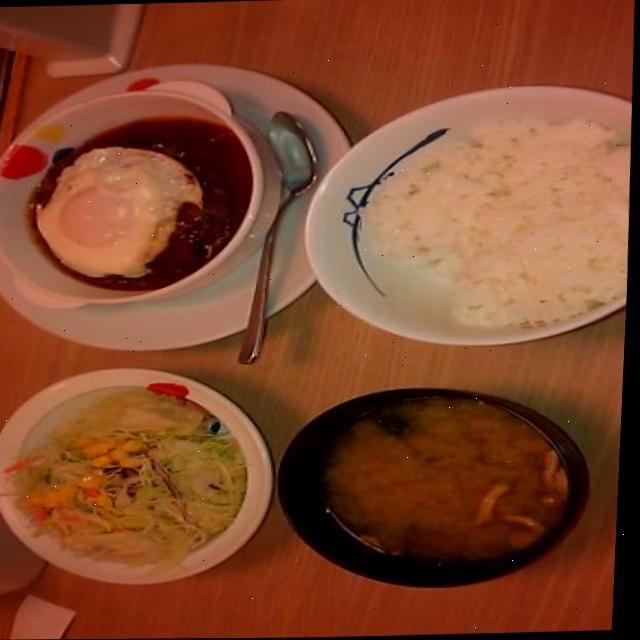米饭主食: (305, 71, 637, 351)
